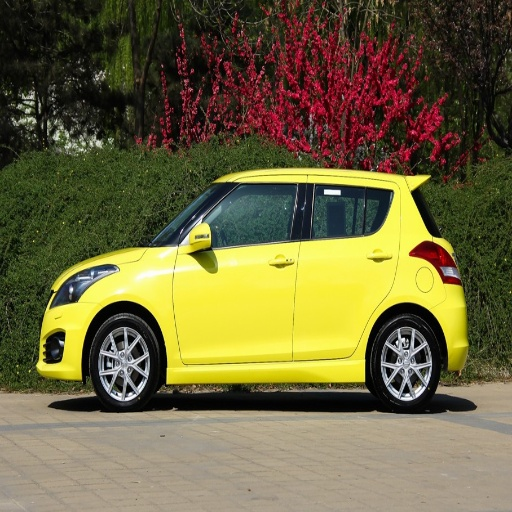back_left_door: (293, 180, 395, 359)
front_left_door: (173, 180, 306, 364)
